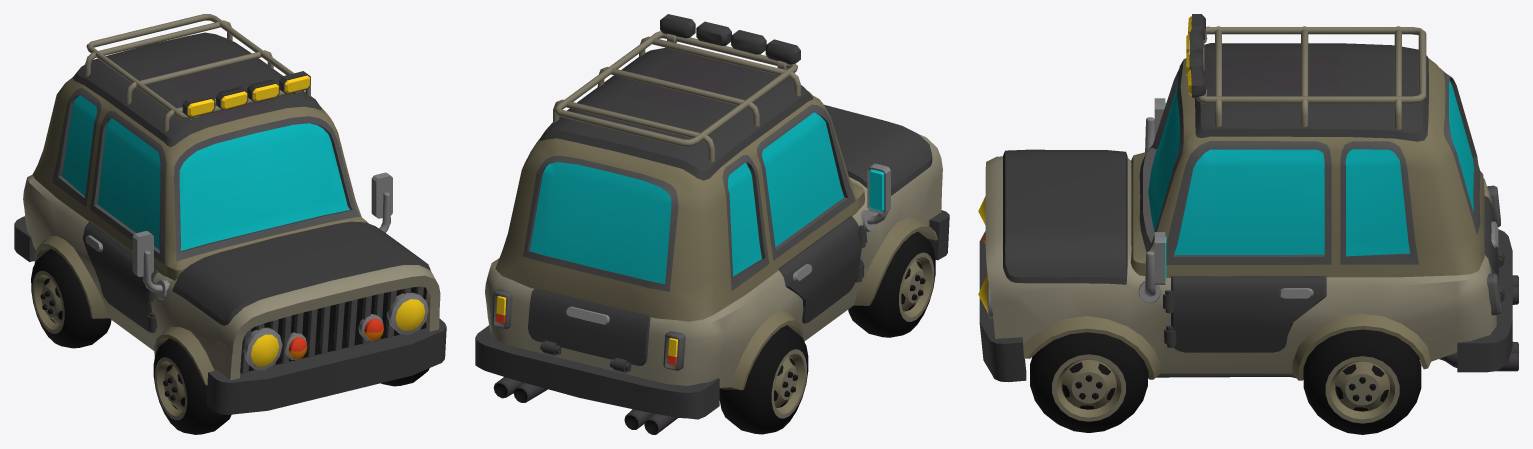
File: VEH9-A.fbx
The picture shows the model from 3 angles, left to right: view 1: azimuth 30°, elevation 25°; view 2: azimuth 150°, elevation 25°; view 3: azimuth 270°, elevation 25°; orthographic projection. The views are drawn at different scales.
Parts seen in each view (by area): view 1: VEH9_A, V9A_Wheel_BR, V9A_Wheel_FR; view 2: VEH9_A, V9A_Wheel_BR, V9A_Wheel_FR; view 3: VEH9_A, V9A_Wheel_BL, V9A_Wheel_FL.
Boxes of the visible parts, x1,y1,x2,y2 form: VEH9_A: (14,14,446,414); V9A_Wheel_BR: (31,249,111,348); V9A_Wheel_FR: (153,338,231,434); VEH9_A: (475,14,949,434); V9A_Wheel_BR: (719,325,808,434); V9A_Wheel_FR: (848,231,935,337); VEH9_A: (978,14,1518,382); V9A_Wheel_BL: (1303,329,1421,434); V9A_Wheel_FL: (1030,332,1147,432).
Bounding box in the file's own units: 257 × 272 × 409.
Materials: 1 (1 with a texture image).
